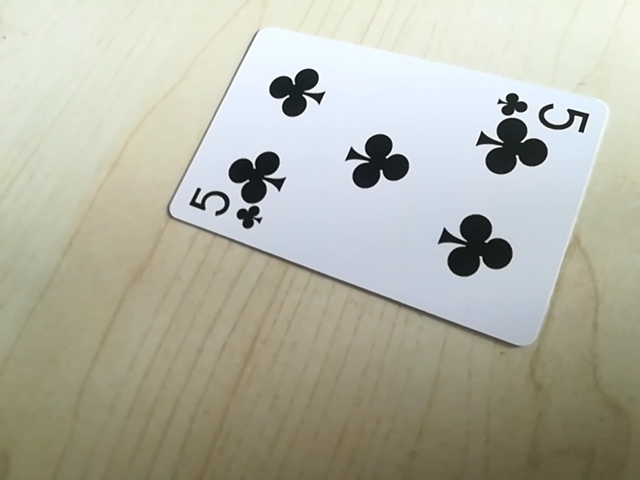mh 5: (495, 92, 594, 130), (181, 187, 270, 229)
